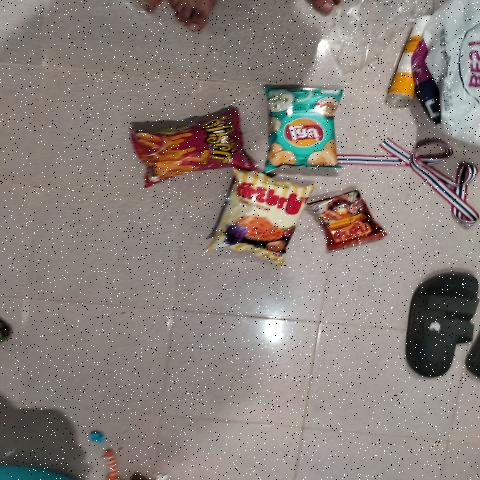lay_blue: (274, 93, 327, 164)
mama: (326, 193, 365, 247)
paprika: (219, 186, 307, 248)
twisco: (148, 112, 232, 171)
